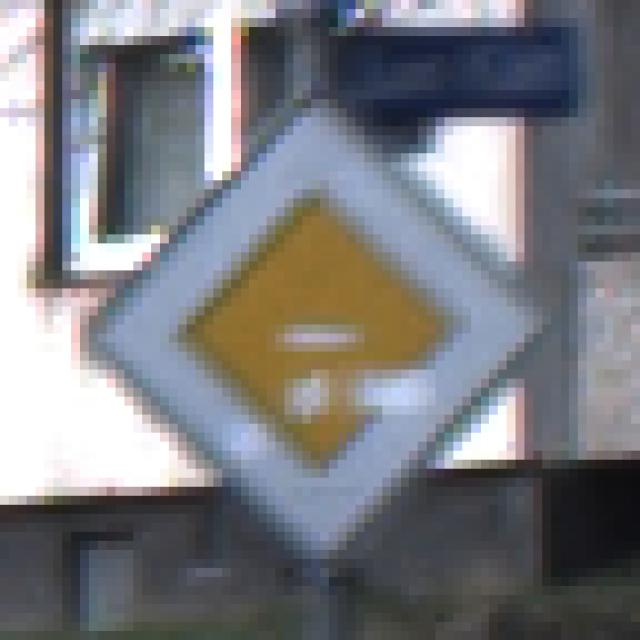Main Road: (63, 55, 588, 587)
